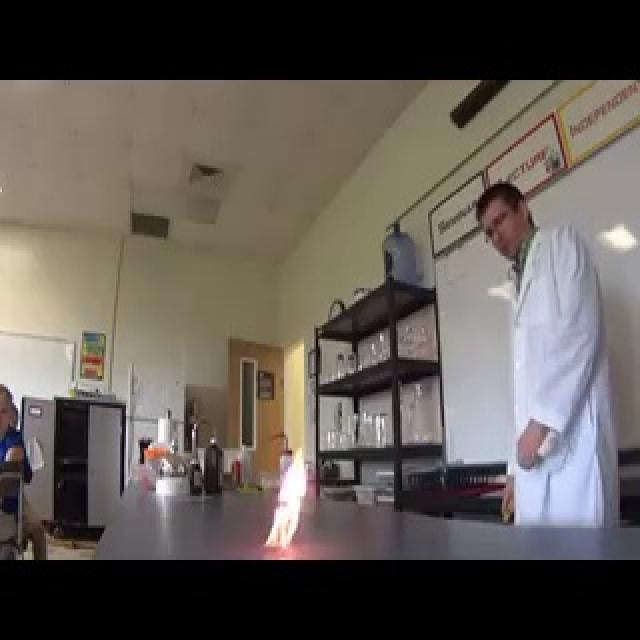fire: (259, 442, 316, 552)
